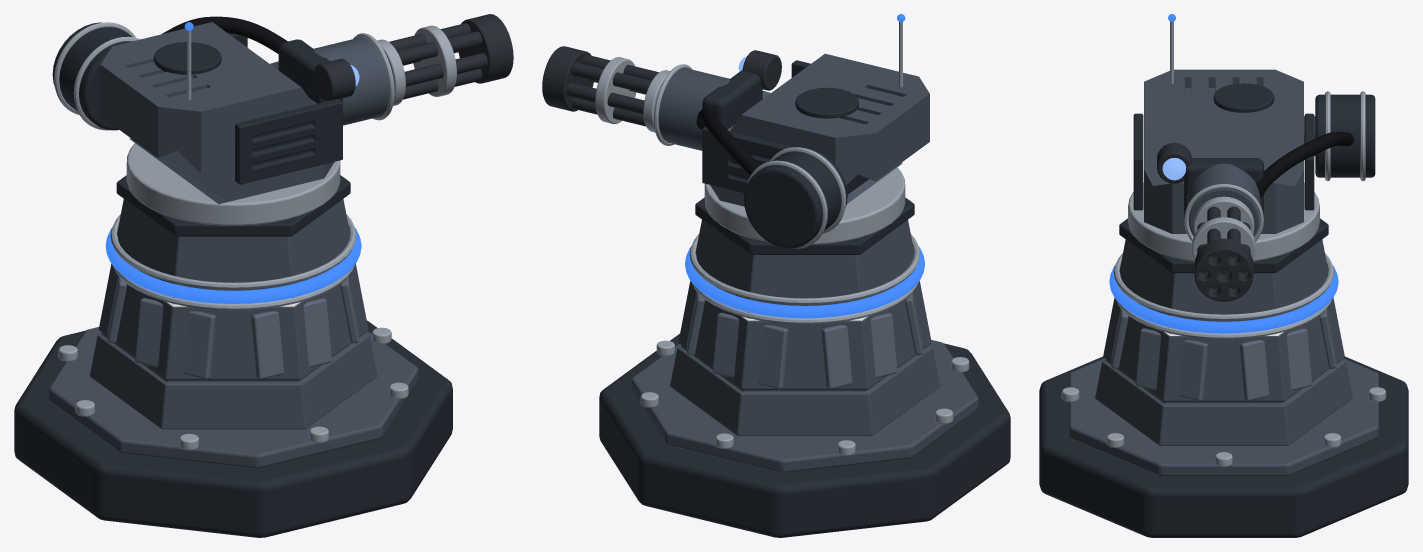
The model's file is vulcan.glb.
3 views of the same model, side by side, from view 1: azimuth 30°, elevation 25°; view 2: azimuth 150°, elevation 25°; view 3: azimuth 270°, elevation 25° (orthographic). The views are drawn at different scales.
Parts seen in each view (by area): view 1: Base, Turret, Barrels, Gun; view 2: Base, Turret, Barrels, Gun; view 3: Base, Turret, Barrels, Gun.
Part boxes in pixels (<box>): Base: <box>14,143,452,537</box>; Turret: <box>52,16,359,203</box>; Barrels: <box>377,14,513,105</box>; Gun: <box>278,33,394,125</box>; Base: <box>599,167,1010,537</box>; Turret: <box>696,14,929,248</box>; Barrels: <box>542,46,670,132</box>; Gun: <box>654,64,762,150</box>; Base: <box>1039,183,1408,537</box>; Turret: <box>1133,14,1375,233</box>; Barrels: <box>1192,196,1255,301</box>; Gun: <box>1184,158,1263,241</box>.
Size of the model in its own units: 5.73 by 5.75 by 4.62.
